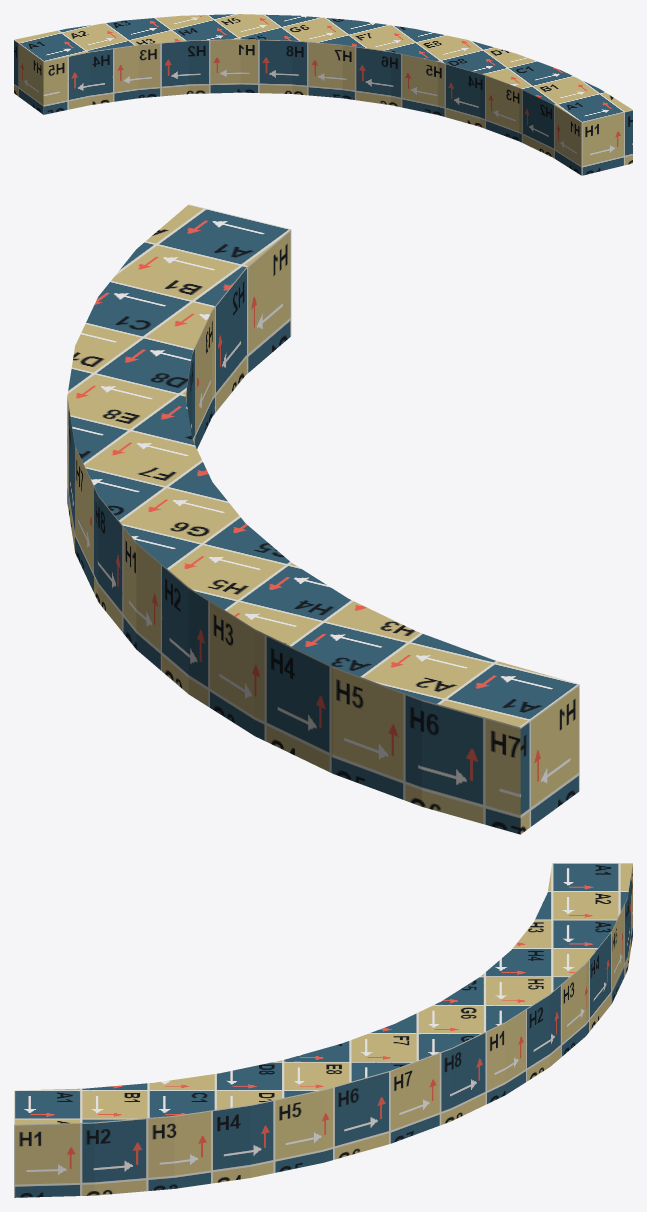
File: BEAM_Curved.fbx
3 renders of one model, top to bottom at view 1: azimuth 30°, elevation 25°; view 2: azimuth 150°, elevation 25°; view 3: azimuth 270°, elevation 25°, orthographic. The views are drawn at different scales.
Parts seen in each view (by area): view 1: BEAM_Curved; view 2: BEAM_Curved; view 3: BEAM_Curved.
Boxes of the visible parts, box(x1,y1,x2,y2) form: BEAM_Curved: box(14, 14, 632, 175); BEAM_Curved: box(67, 204, 579, 834); BEAM_Curved: box(14, 863, 632, 1197).
Size of the model in its own units: 230 by 30 by 230.
Materials: 1 (1 with a texture image).
